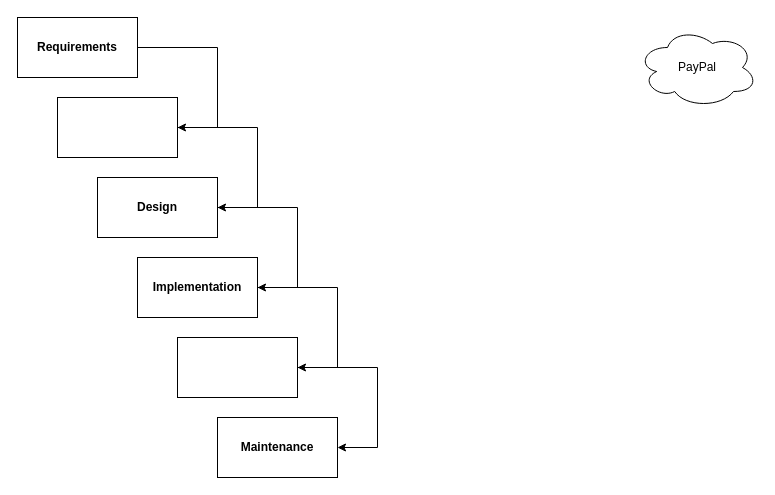
The diagram is 775 pixels wide and 495 high, and some of its shapes have lost their labels. The shapes that lost their labels are listed below. From the top down, each one's box as (x1, y1, x2, y2) in pixels, then its label:
(56, 96, 178, 158): Analysis
(176, 336, 298, 398): Testing
